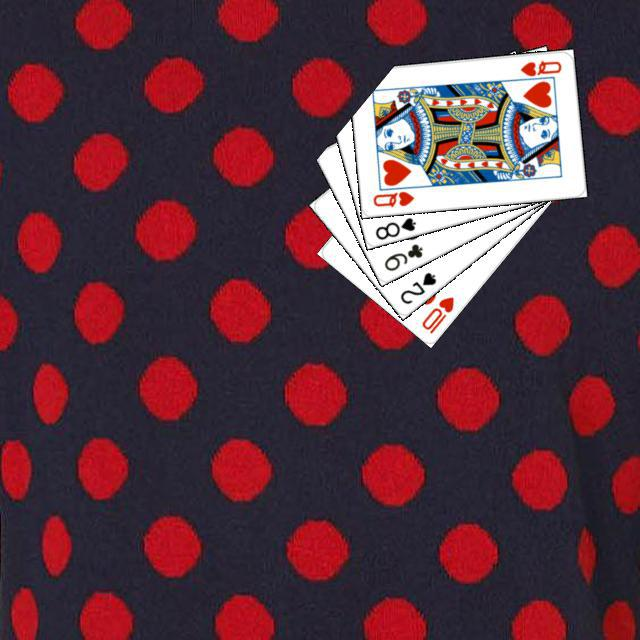10h: (417, 291, 456, 336)
2s: (395, 267, 438, 306)
8s: (370, 212, 417, 241)
9c: (379, 239, 425, 273)
Qh: (511, 55, 563, 83), (368, 186, 416, 209)
